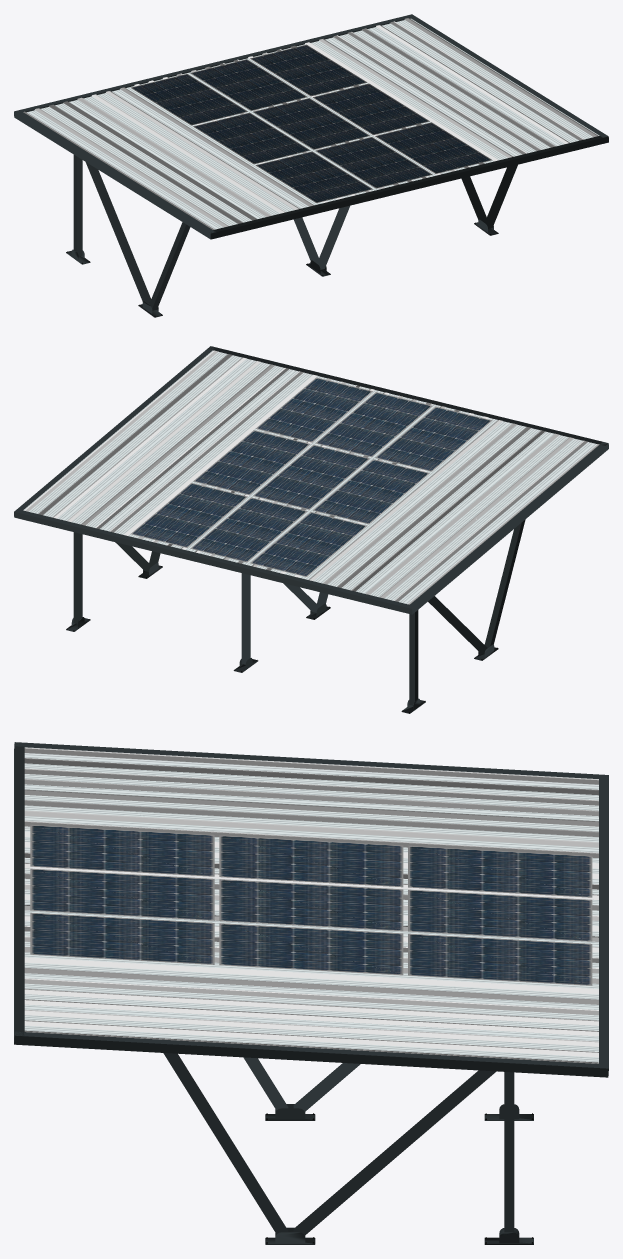
3 views of the same model, one above another, from view 1: azimuth 30°, elevation 25°; view 2: azimuth 150°, elevation 25°; view 3: azimuth 270°, elevation 25° (orthographic). The views are drawn at different scales.
Visible parts, largest first — view 1: priximbattable_net_abris_de_voiture_solaire_640011_carport_s; view 2: priximbattable_net_abris_de_voiture_solaire_640011_carport_s; view 3: priximbattable_net_abris_de_voiture_solaire_640011_carport_s.
Part boxes in pixels (x1,y1,x2,y2): priximbattable_net_abris_de_voiture_solaire_640011_carport_s: (14,14,608,317); priximbattable_net_abris_de_voiture_solaire_640011_carport_s: (14,346,608,713); priximbattable_net_abris_de_voiture_solaire_640011_carport_s: (14,742,608,1244).
Size of the model in its own units: 700 by 255 by 599.
Materials: 1 (1 with a texture image).
